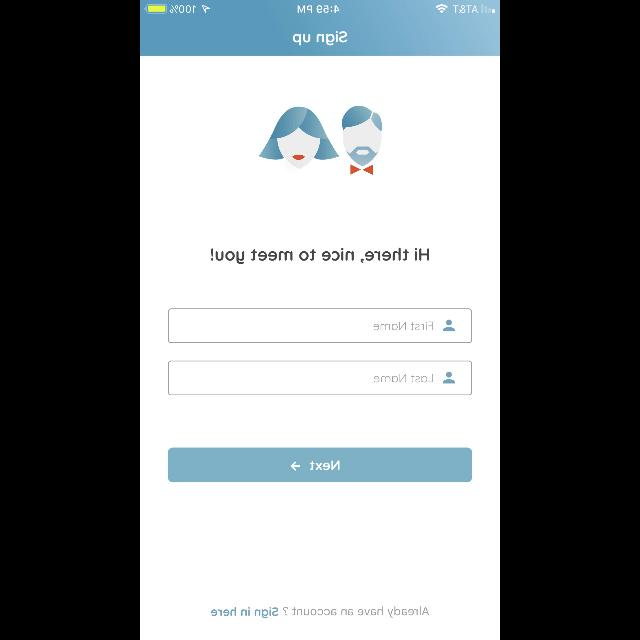icon: (444, 321, 454, 332), (444, 372, 454, 383), (291, 462, 301, 471)
image: (258, 106, 382, 176)
input: (168, 361, 472, 395), (168, 309, 472, 343)
text: (211, 248, 429, 264), (211, 607, 429, 619), (293, 32, 347, 46), (373, 374, 432, 382), (373, 322, 432, 330)
textbutton: (168, 448, 472, 482)
uppertaskbar: (140, 0, 500, 14)
